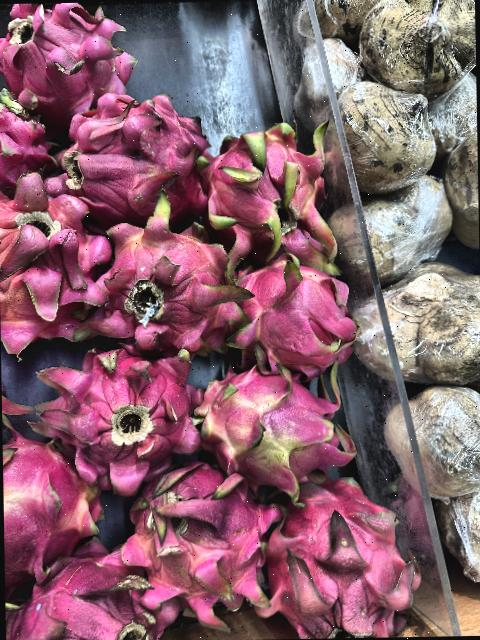buah-naga-belum-matang: (197, 358, 354, 489)
buah-naga-matang: (265, 472, 425, 638), (118, 458, 274, 618), (34, 334, 195, 478), (96, 200, 236, 348), (200, 122, 350, 255), (0, 169, 110, 350), (63, 88, 205, 218), (2, 415, 106, 588), (226, 246, 358, 370), (0, 2, 134, 101), (19, 548, 163, 640), (0, 86, 63, 189)
